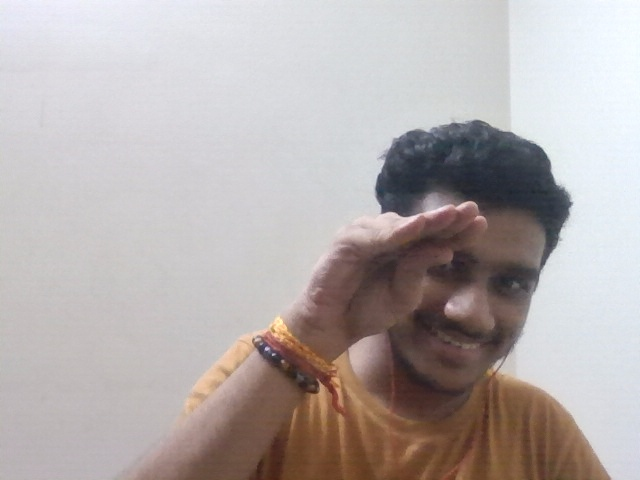no: (294, 193, 501, 369)
